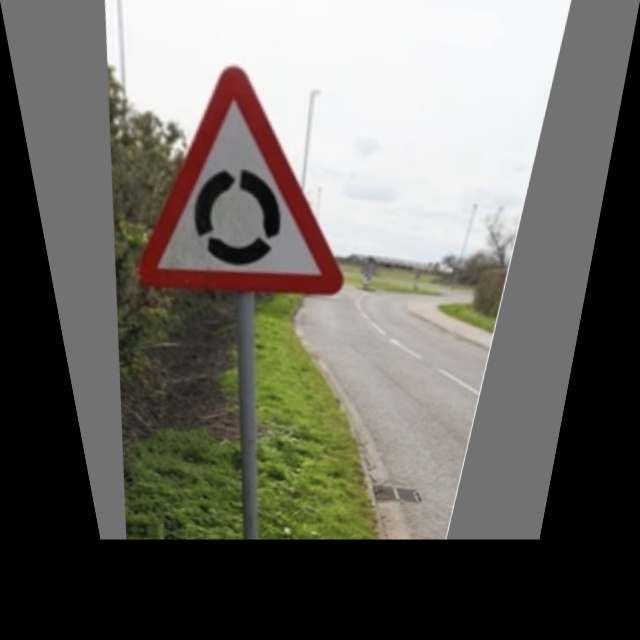Round_About: (122, 52, 363, 297)
